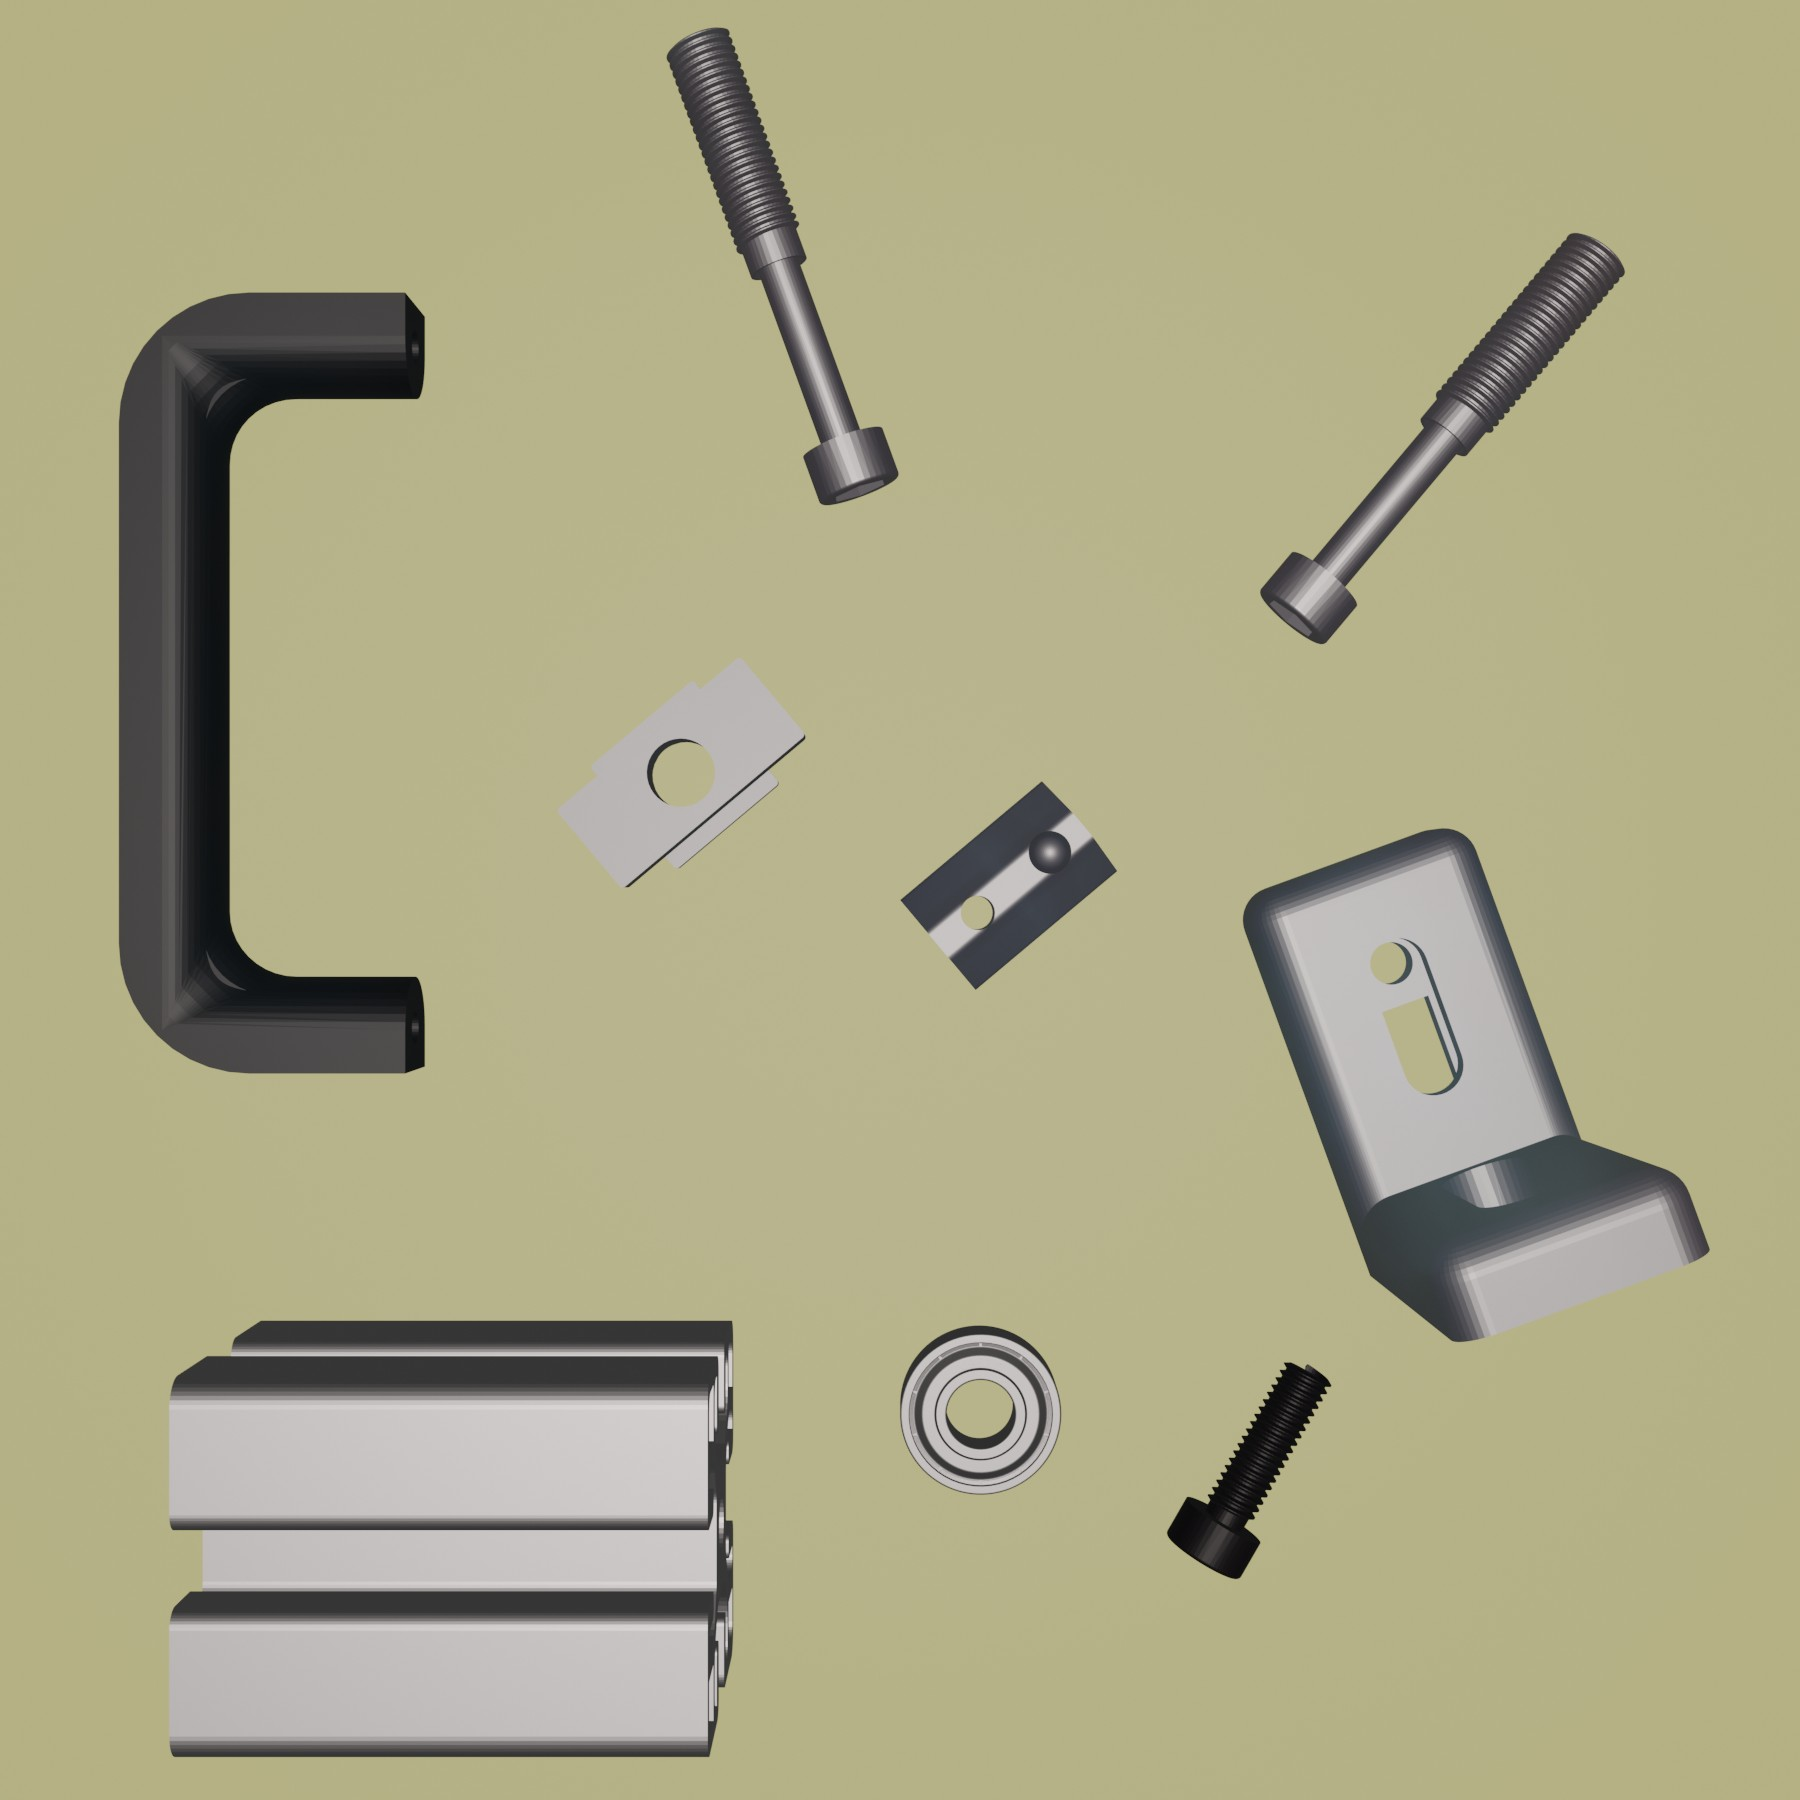Aluminium Extension: (163, 1310, 738, 1764)
Ball Bearing: (897, 1324, 1063, 1498)
Multiwinkel: (1238, 824, 1713, 1347)
Pull Handle: (112, 282, 429, 1081)
Shoulder Socket Head Cap Screw: (1254, 227, 1629, 646), (664, 21, 900, 508)
Socket Head Cap Screw: (1165, 1355, 1334, 1582)
T Nut Square: (559, 649, 813, 892)
T Spring Nut: (900, 778, 1118, 992)
